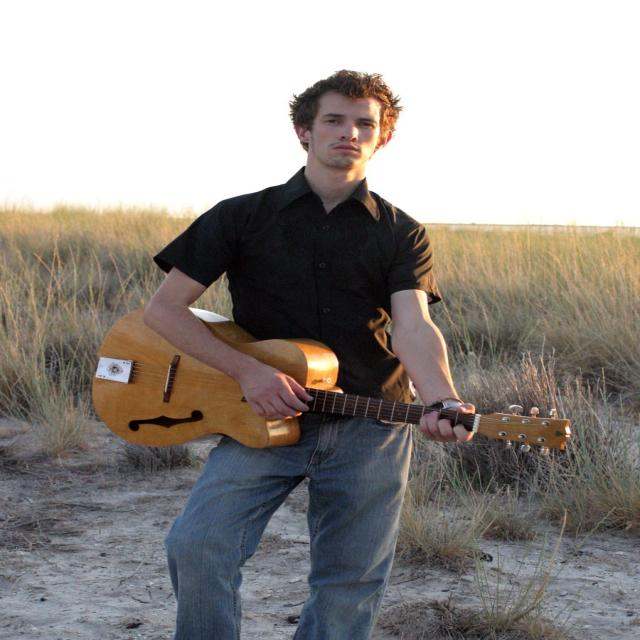guitar: (88, 302, 582, 451)
